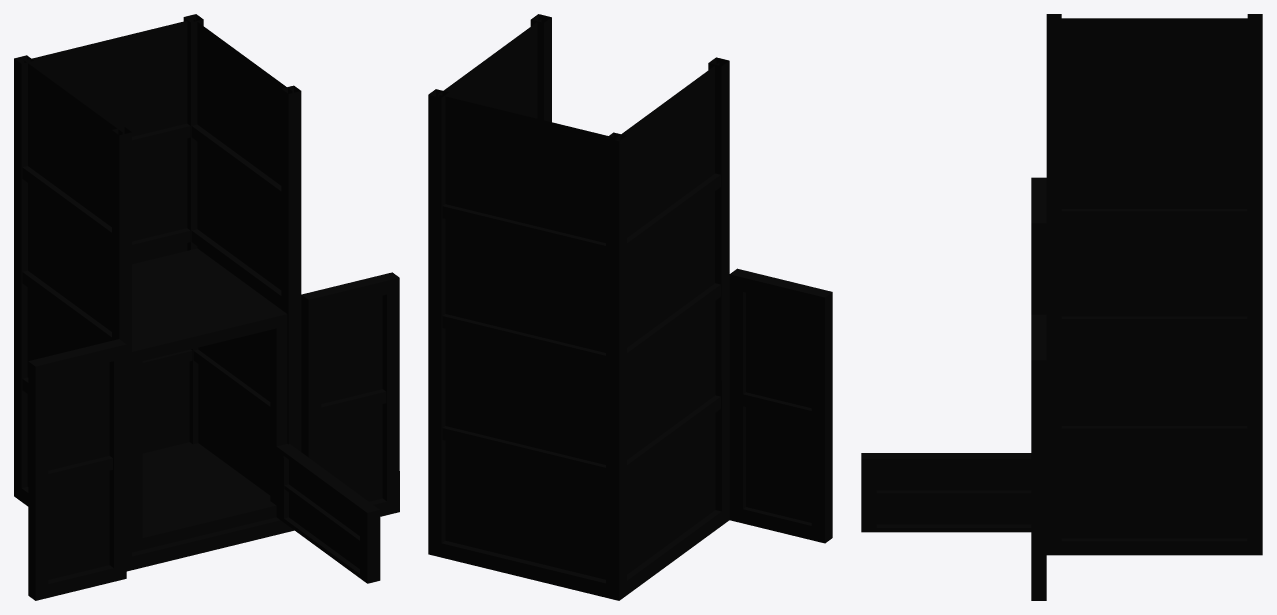
The model's file is Elevador.fbx.
The picture shows the model from 3 angles, left to right: view 1: azimuth 30°, elevation 25°; view 2: azimuth 150°, elevation 25°; view 3: azimuth 270°, elevation 25°; orthographic projection. The views are drawn at different scales.
Parts seen in each view (by area): view 1: Elevador_Poco, Elevador; view 2: Elevador_Poco; view 3: Elevador_Poco, Elevador.
Boxes of the visible parts, left/top/right/bottom form: Elevador_Poco: left=14, top=14, right=399, bottom=600; Elevador: left=132, top=248, right=380, bottom=583; Elevador_Poco: left=428, top=14, right=832, bottom=600; Elevador_Poco: left=1031, top=14, right=1262, bottom=600; Elevador: left=861, top=453, right=1031, bottom=532.
Size of the model in its own units: 2798 by 3216 by 2598.
